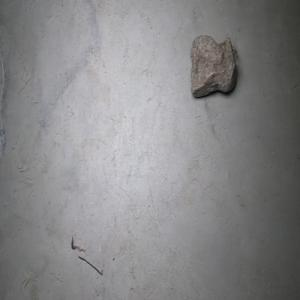Rock: (190, 34, 238, 97)
